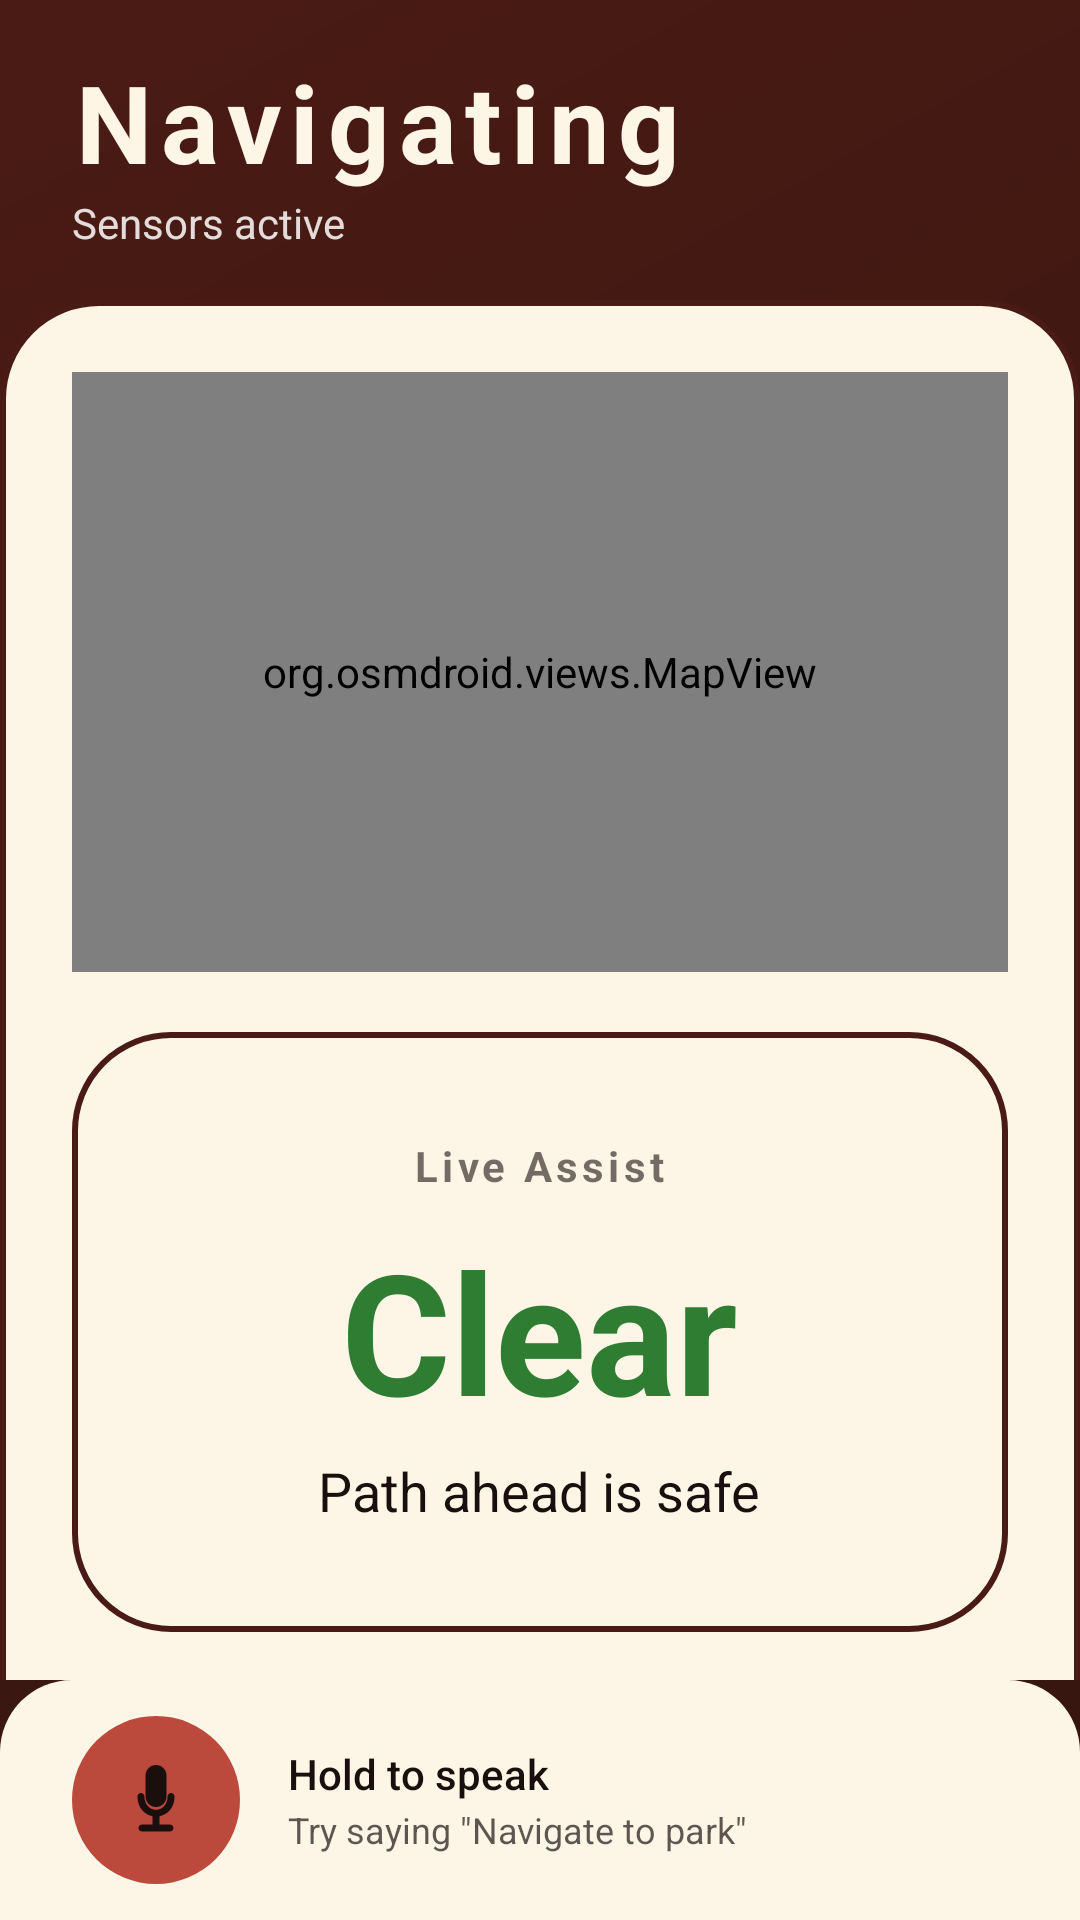

Icon click points for this 1080 x 1920 phone screenshot, format point (x, y):
voice mic: point (156, 1798)
